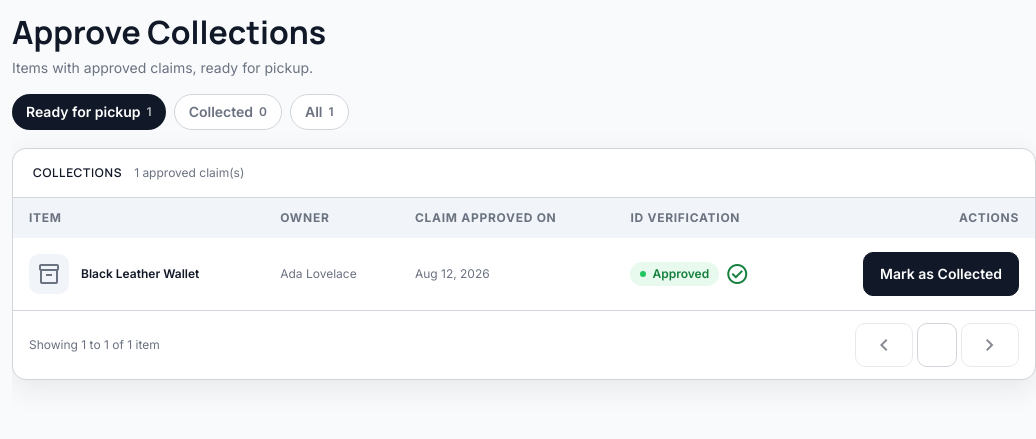
it: Collections › lists approved claims and filters them with the tabs
The image size is (1036, 439).
Expected: the text "Black Leather Wallet" is shown, left=81, top=266, right=199, bottom=282
Click the tab "Collected 0" at (228, 112), box left=174, top=94, right=282, bottom=130
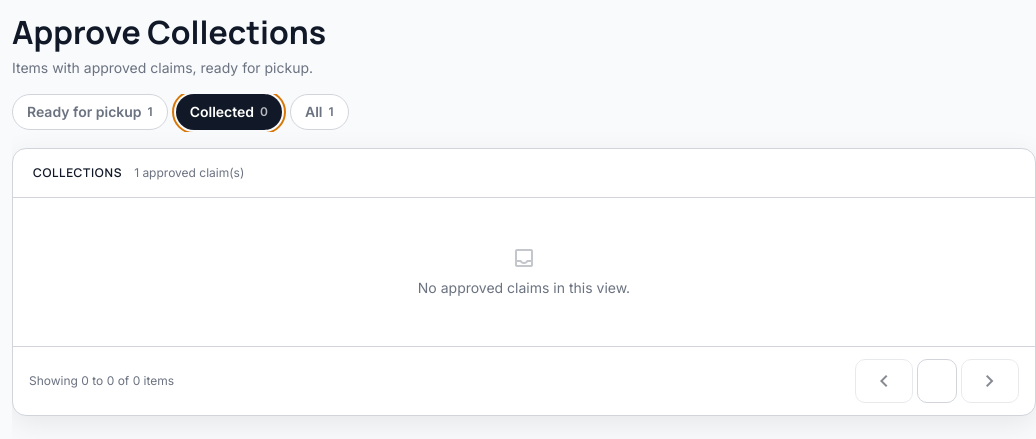
Result: the text "No approved claims in this view." is shown at left=418, top=279, right=630, bottom=296
